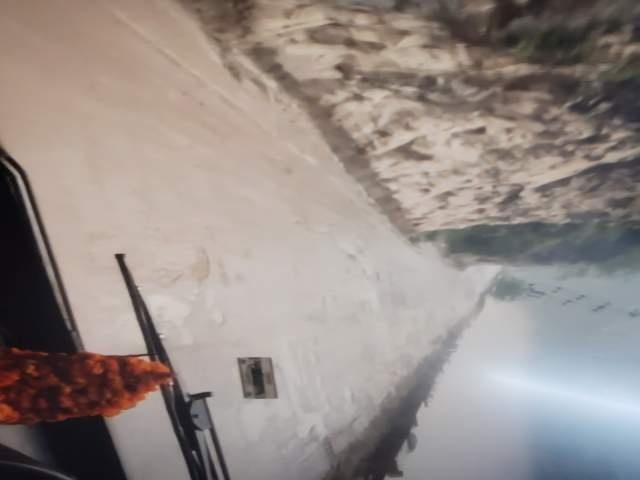pothole: (319, 312, 419, 392)
